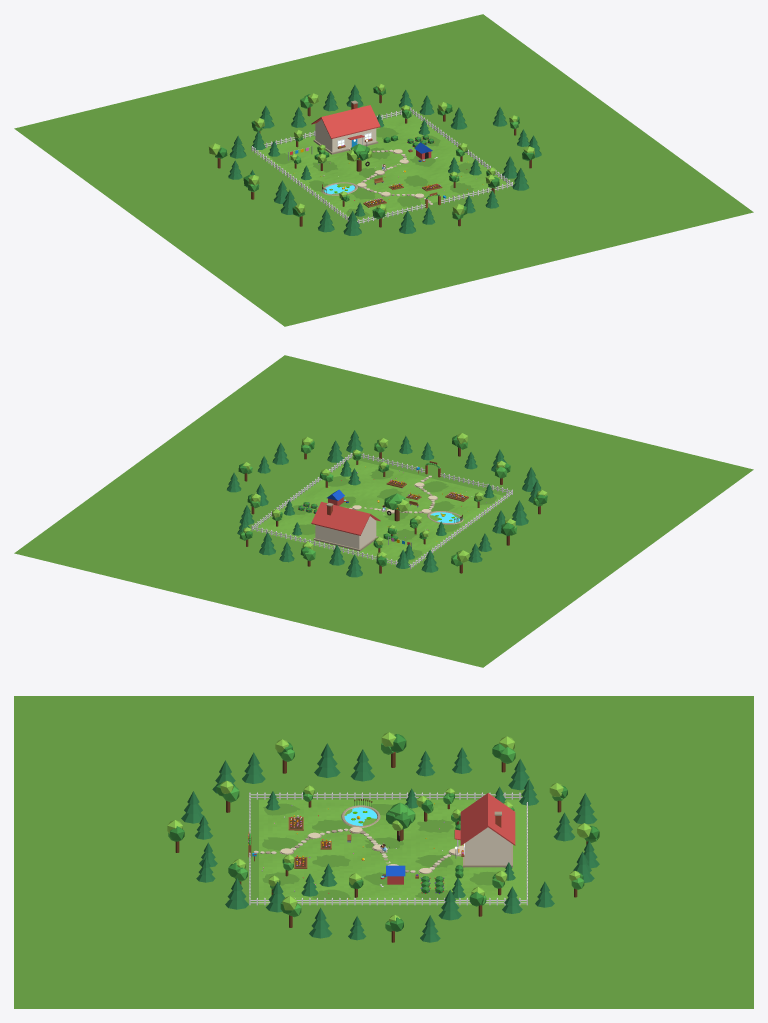
The model's file is pongo_world.glb.
The picture shows the model from 3 angles, top to bottom: view 1: azimuth 30°, elevation 25°; view 2: azimuth 150°, elevation 25°; view 3: azimuth 270°, elevation 25°; orthographic projection. The views are drawn at different scales.
Visible parts, largest first — view 1: LawnOutside, GardenLawn, House_Roof, House_Walls; view 2: LawnOutside, GardenLawn, House_Roof, House_Walls; view 3: LawnOutside, GardenLawn, House_Roof, House_Walls.
Part boxes in pixels (<box>): LawnOutside: <box>14,14,753,326</box>; GardenLawn: <box>253,113,506,220</box>; House_Roof: <box>311,105,380,138</box>; House_Walls: <box>315,124,376,152</box>; LawnOutside: <box>14,355,753,667</box>; GardenLawn: <box>253,458,508,568</box>; House_Roof: <box>311,502,380,535</box>; House_Walls: <box>315,521,376,549</box>; LawnOutside: <box>14,696,753,1008</box>; GardenLawn: <box>259,799,526,904</box>; House_Roof: <box>460,793,515,845</box>; House_Walls: <box>465,843,511,864</box>.
Bounding box in the file's own units: 160 × 11.54 × 160.
